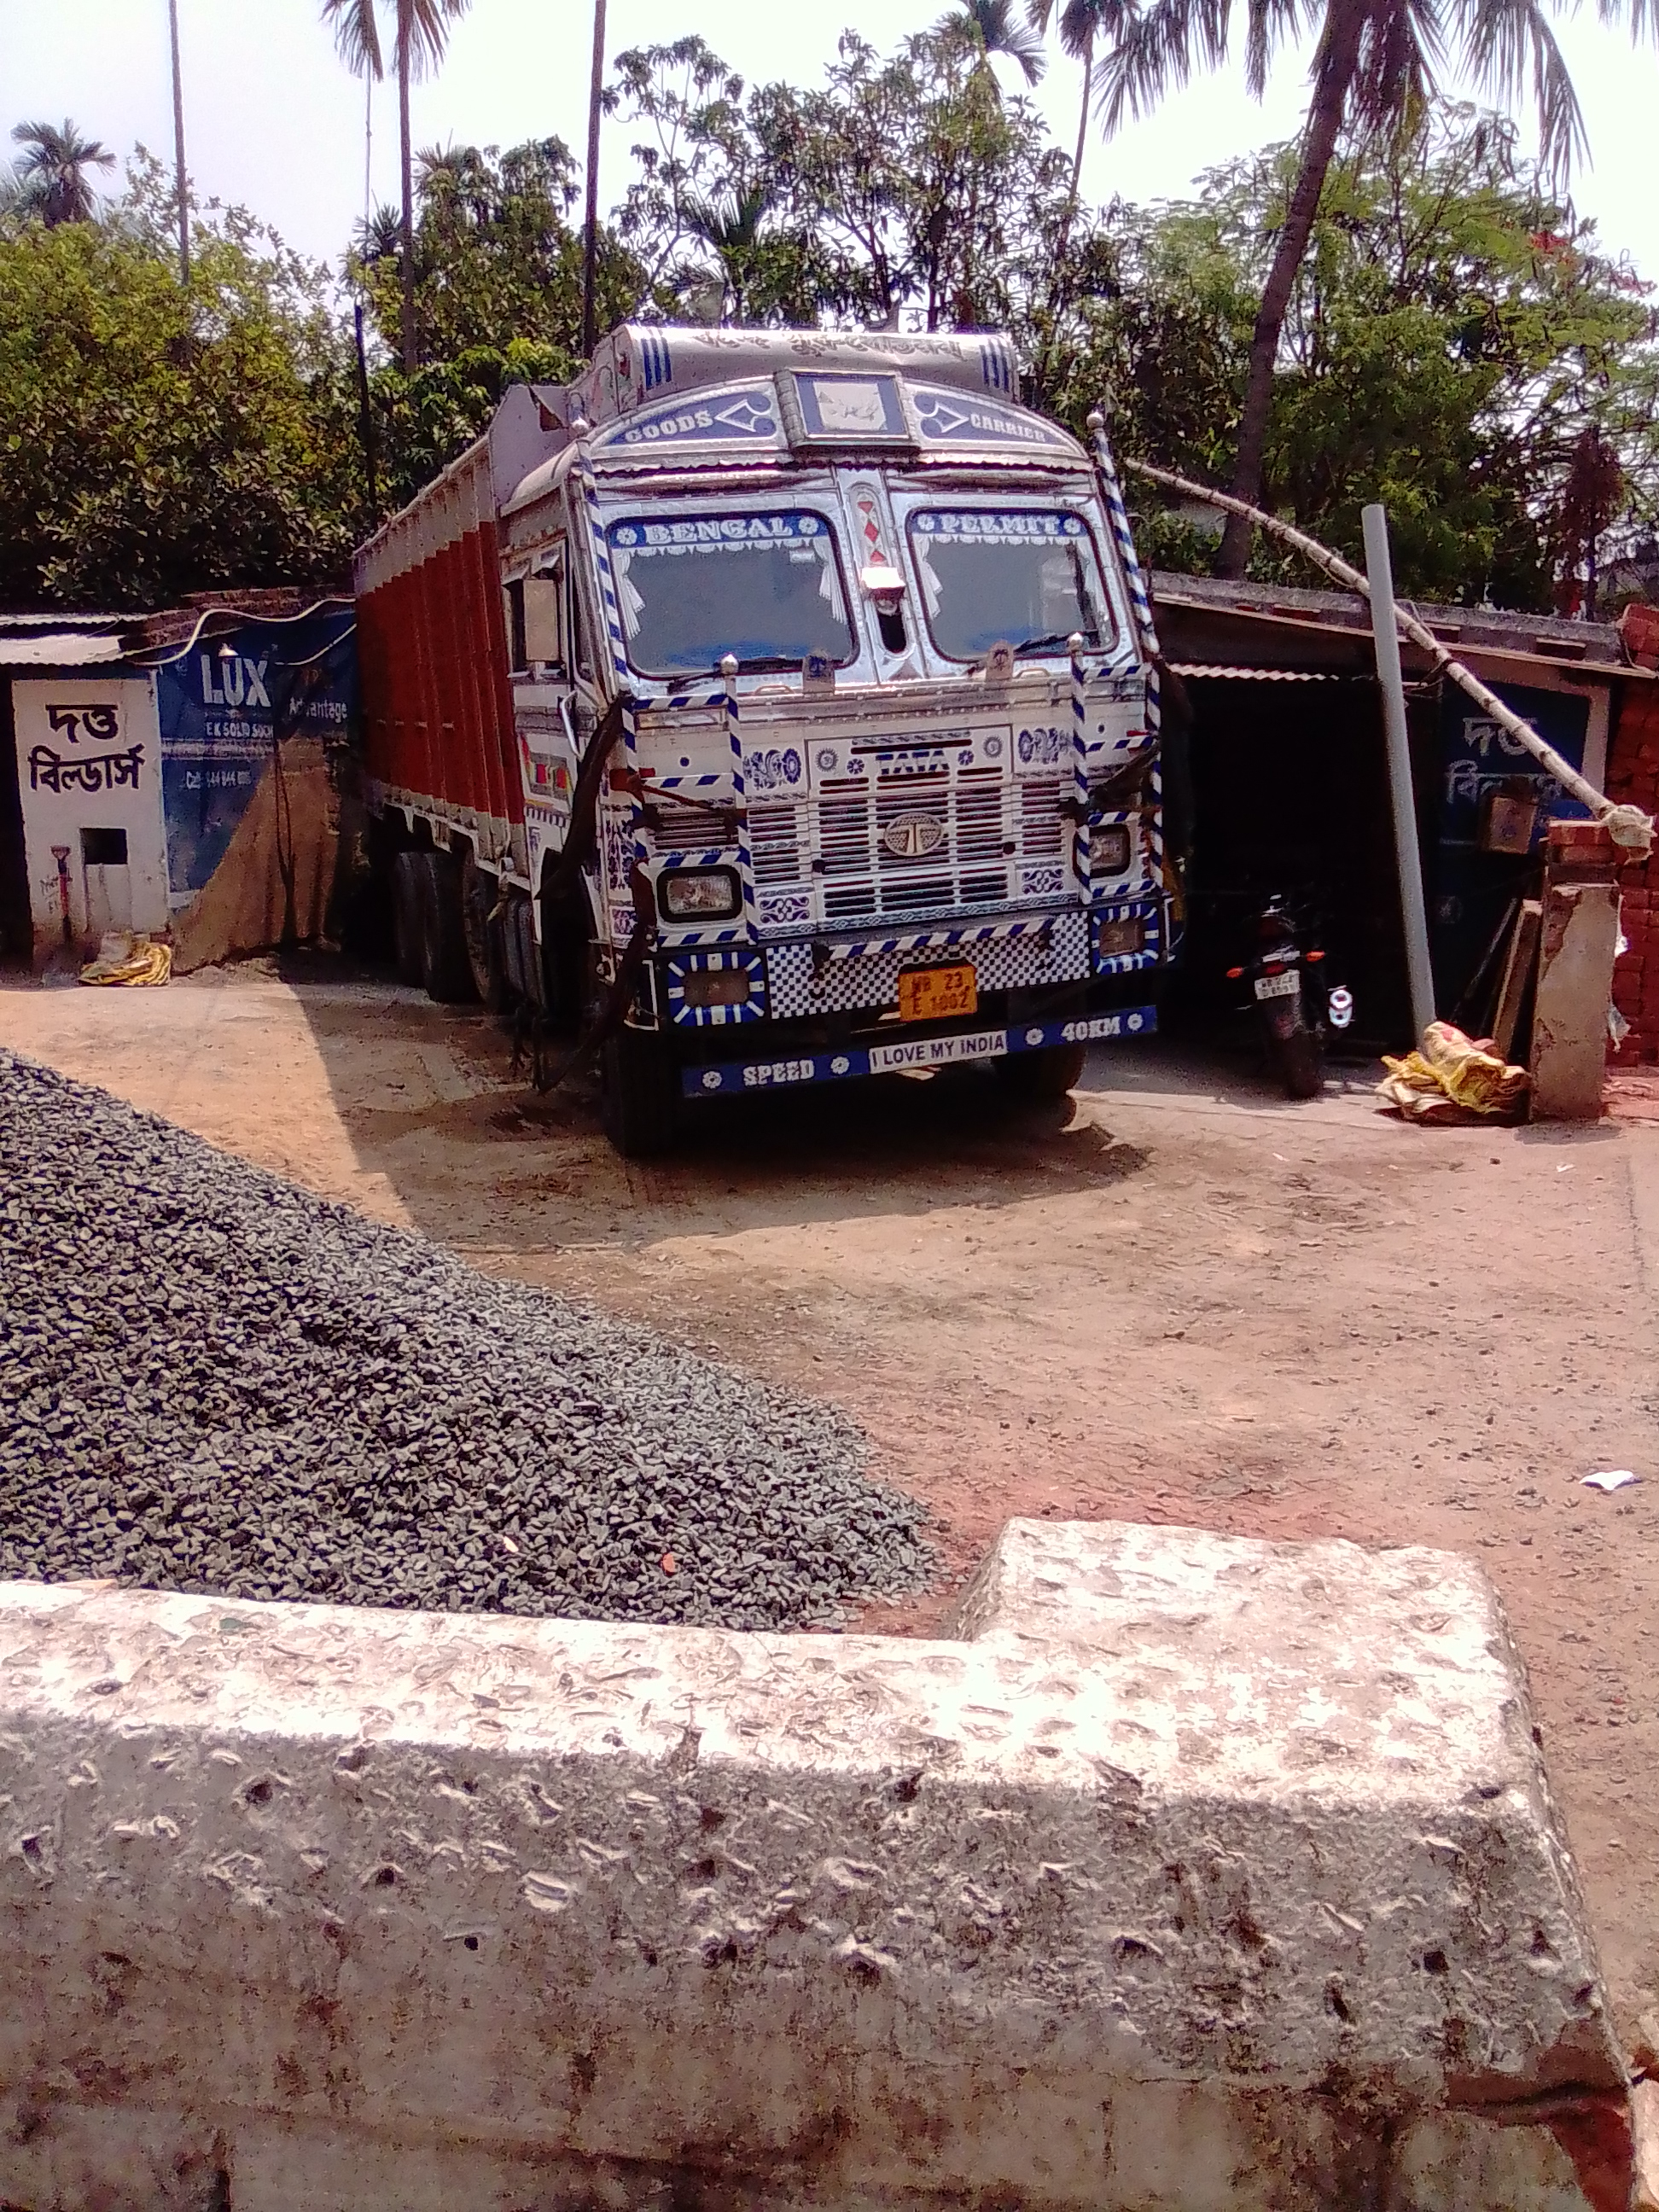truck: (345, 314, 1197, 1162)
